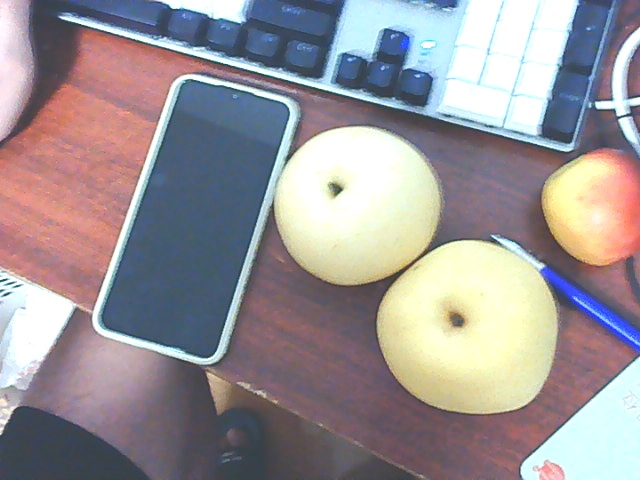pear: (386, 238, 560, 412), (275, 124, 435, 274)
